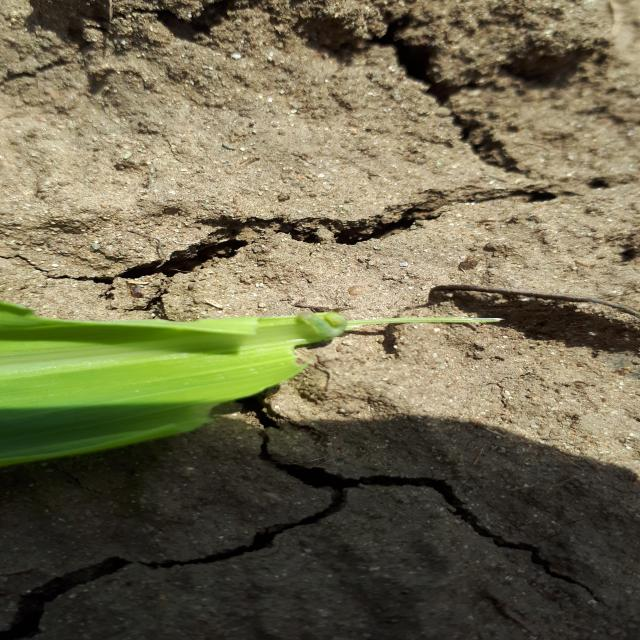armyworm: (298, 311, 352, 341)
